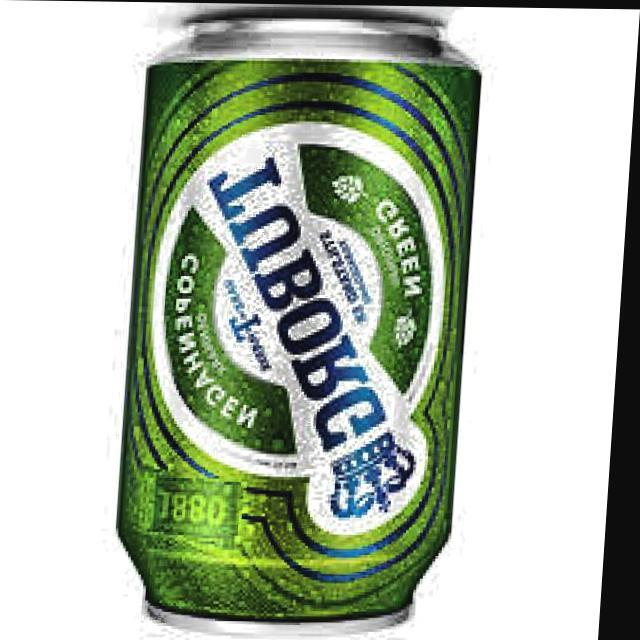Aluminum Can: (113, 1, 498, 640)
